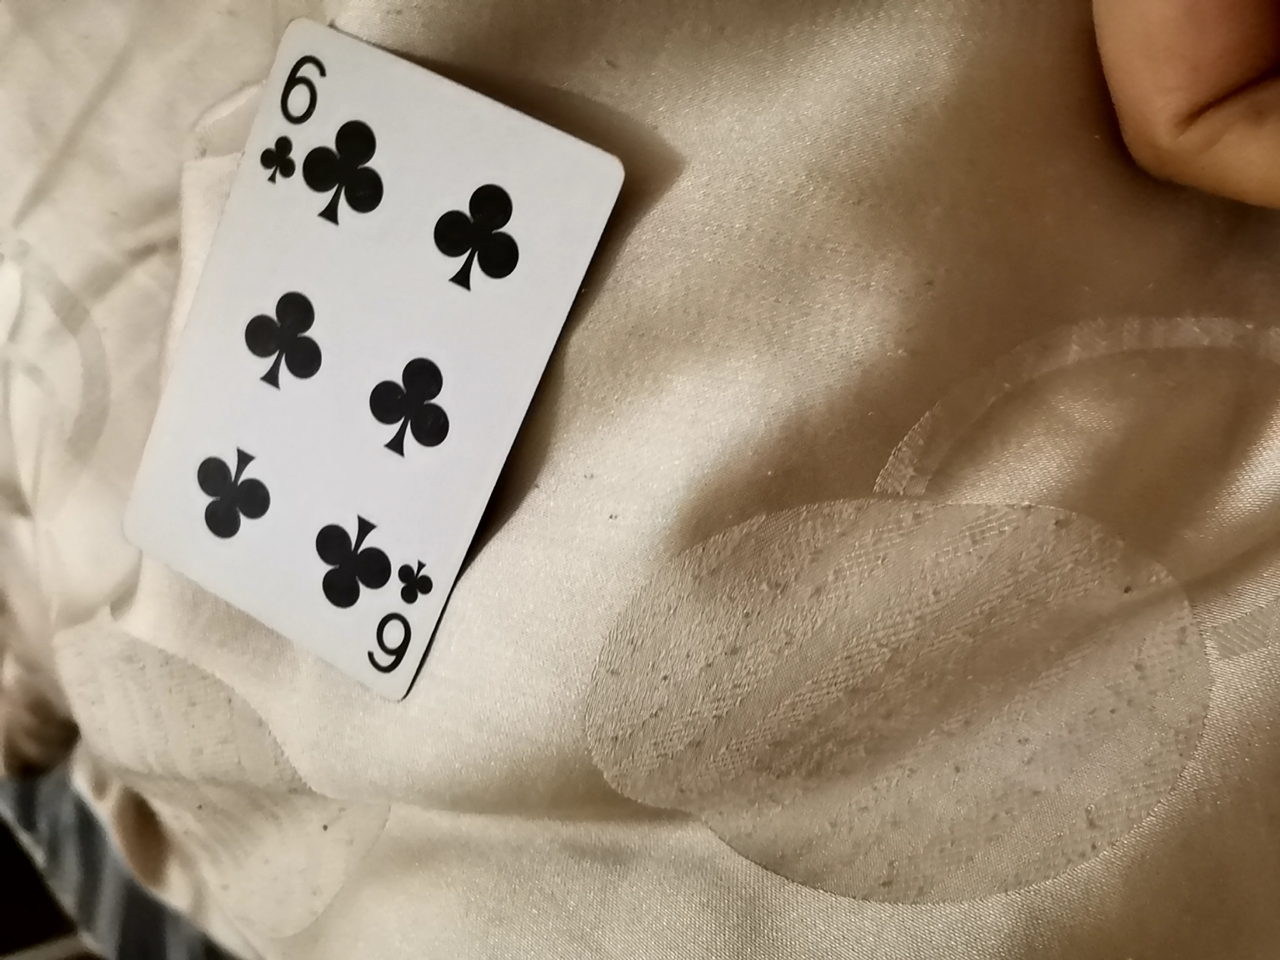mh 6: (126, 40, 622, 665)
